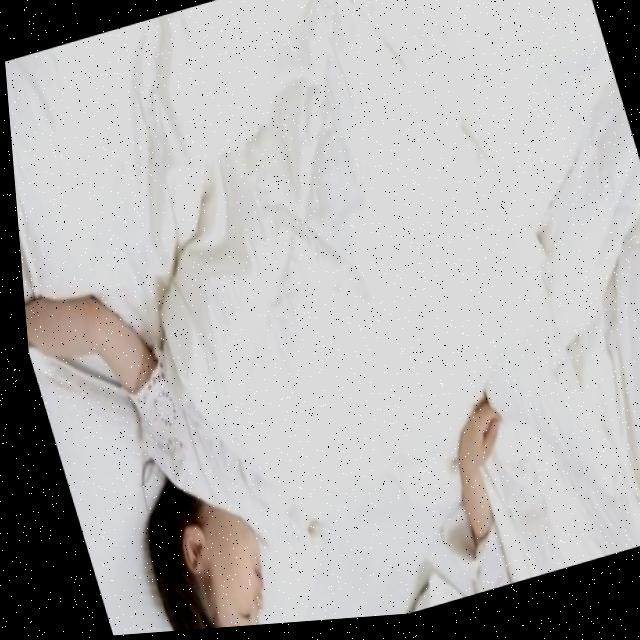sleeping-person: (17, 0, 551, 636)
